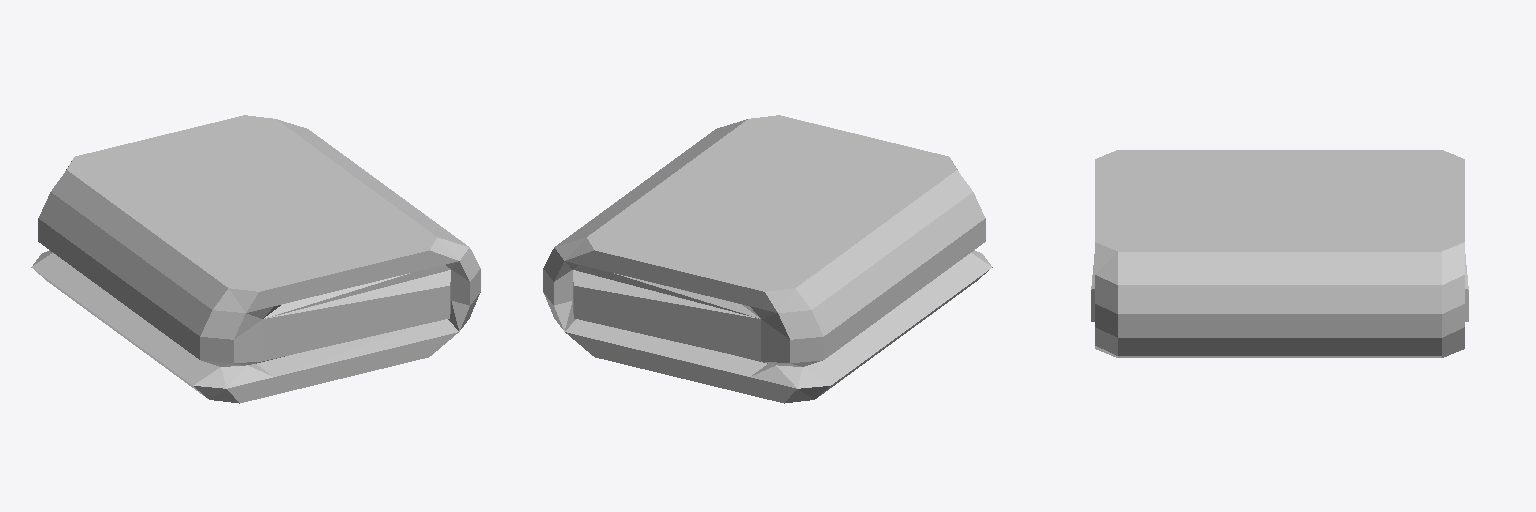
The model's file is Room_301_0_12.obj.
The picture shows the model from 3 angles: view 1: azimuth 30°, elevation 25°; view 2: azimuth 150°, elevation 25°; view 3: azimuth 270°, elevation 25°; orthographic projection.
Parts seen in each view (by area): view 1: Towel; view 2: Towel; view 3: Towel.
Boxes of the visible parts, x1,y1,x2,y2 form: Towel: [31, 115, 480, 403]; Towel: [543, 115, 992, 403]; Towel: [1091, 150, 1468, 357].
Size of the model in its own units: 0.4533 by 0.1609 by 0.5154.